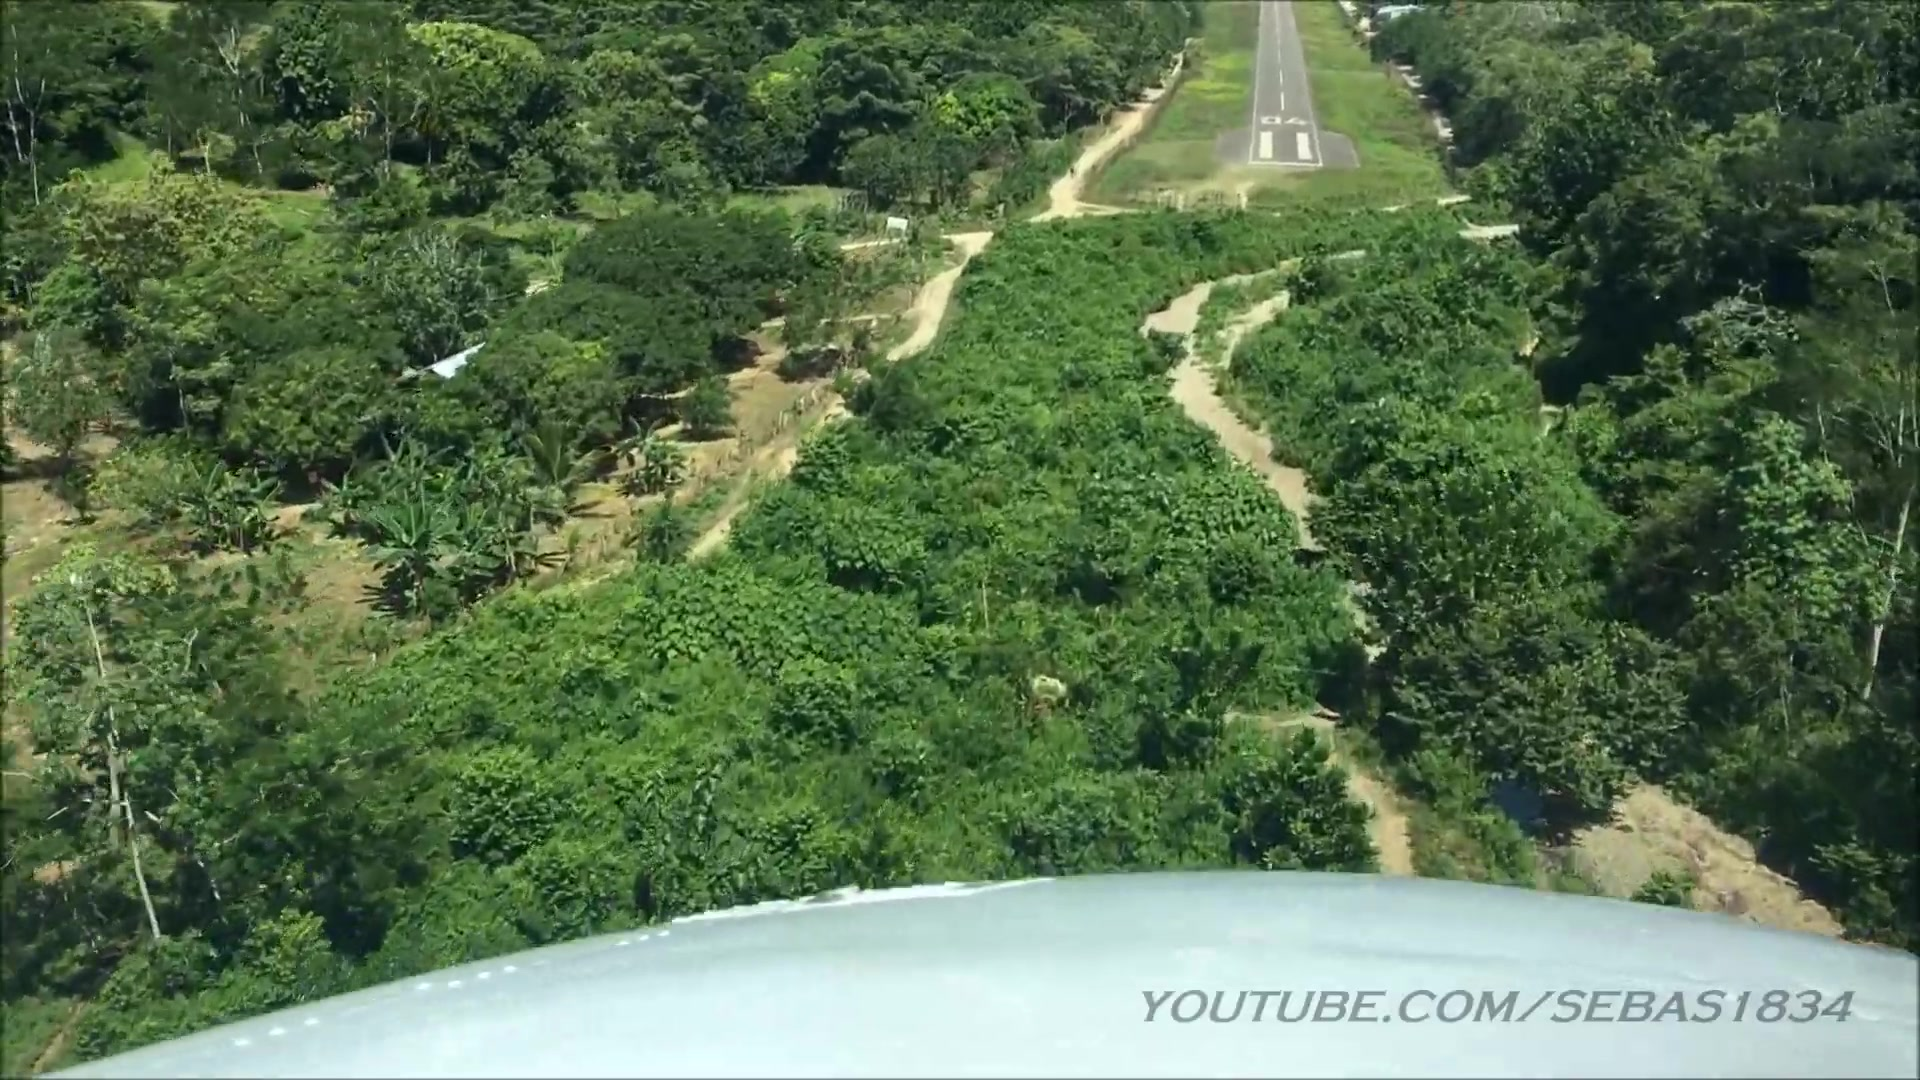entrance: (1255, 131, 1313, 160)
runway: (1245, 1, 1319, 171)
